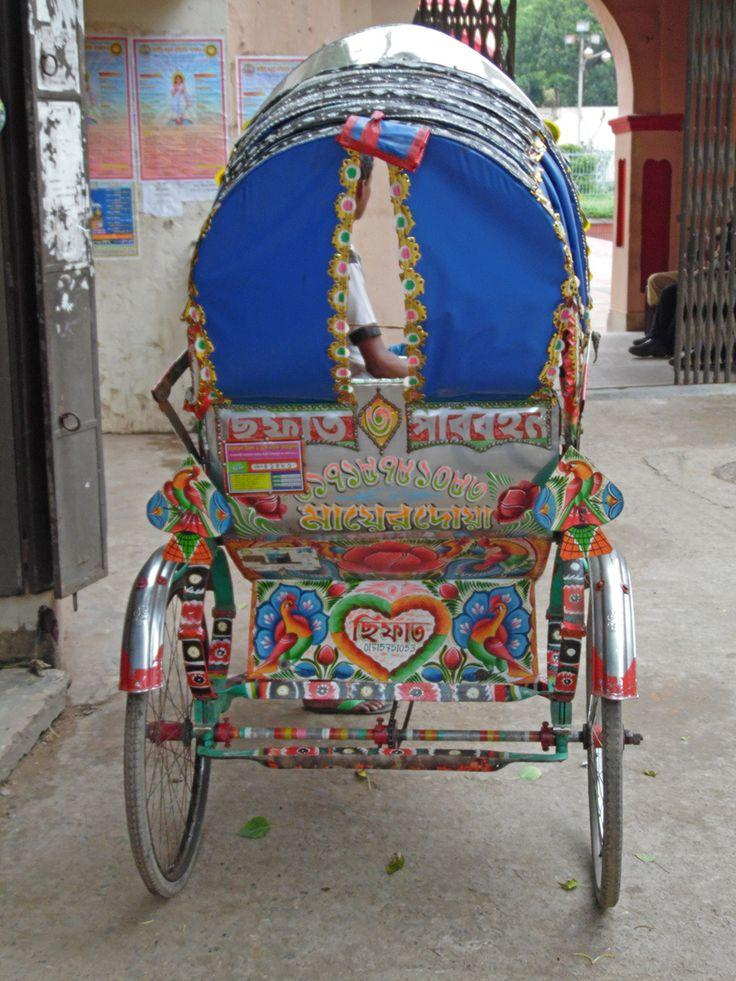Rickshaw: (94, 6, 675, 932)
